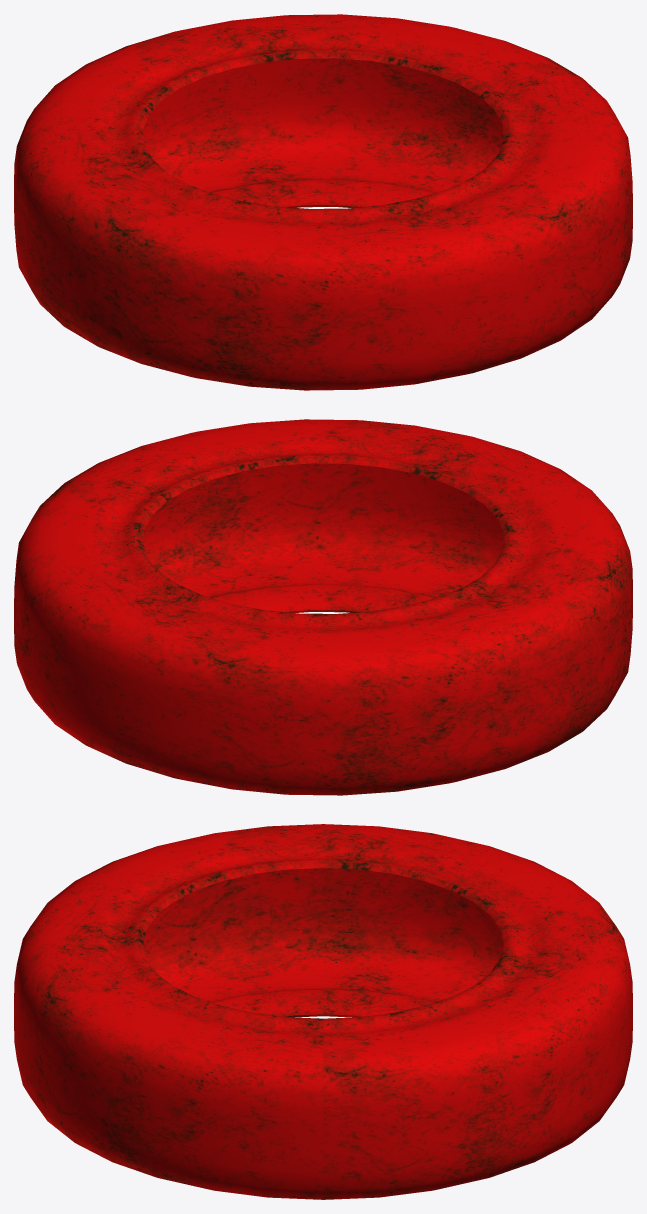
File: TireBarrier_2.fbx
3 renders of one model, top to bottom at view 1: azimuth 30°, elevation 25°; view 2: azimuth 150°, elevation 25°; view 3: azimuth 270°, elevation 25°, orthographic.
Visible parts, largest first — view 1: TireBarrier_2; view 2: TireBarrier_2; view 3: TireBarrier_2.
Boxes of the visible parts, bbox=[...] form: TireBarrier_2: bbox=[14, 14, 632, 390]; TireBarrier_2: bbox=[14, 419, 632, 795]; TireBarrier_2: bbox=[14, 824, 632, 1199].
Size of the model in its own units: 0.576 by 0.1474 by 0.576.
